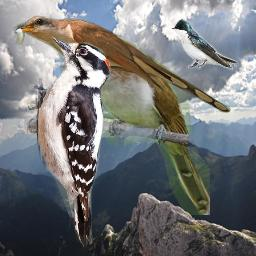Cuckoo: (60, 54, 210, 215), (10, 15, 231, 113)
Swallow: (171, 18, 239, 70)
Woodpecker: (27, 36, 112, 250)
